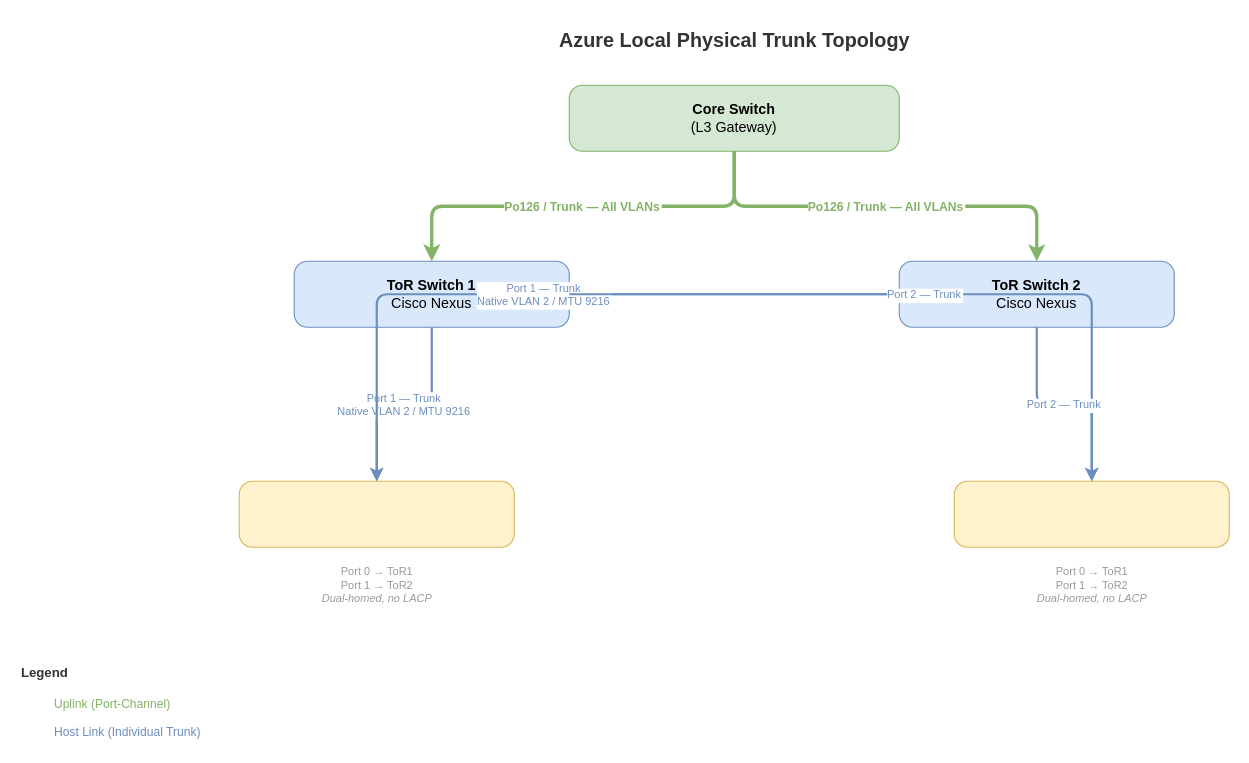
Image size: 1249x763. Some labels were removed from this diagram. The shapes that lost their labels are listed below. From the top down, each one's centre as x and y in pixels, then its label:
(x=376, y=513): Host 1 Azure Local Node
(x=1091, y=513): Host 2 Azure Local Node
